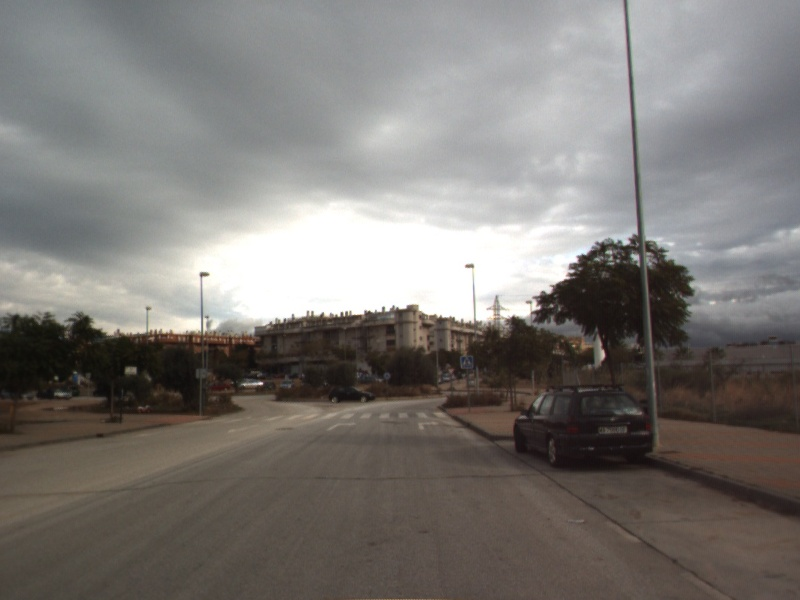RIGHT: (325, 419, 358, 432), (416, 419, 441, 432)
